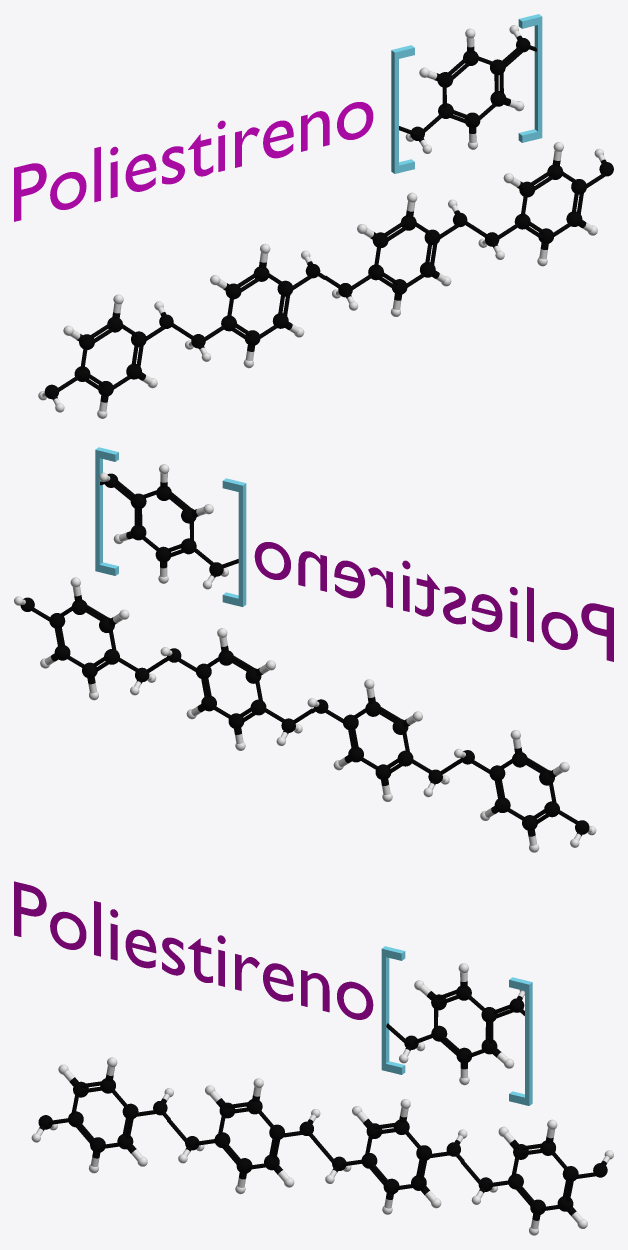
The model's file is poliestireno.glb.
3 views of the same model, one above another, from view 1: azimuth 30°, elevation 25°; view 2: azimuth 150°, elevation 25°; view 3: azimuth 330°, elevation 25° (orthographic).
Visible parts, largest first — view 1: Text.007, Cube.016, Cube.015; view 2: Text.007, Cube.015, Cube.016; view 3: Text.007, Cube.015, Cube.016.
Part boxes in pixels (x1,y1,x2,y2): Text.007: (14, 102, 373, 221); Cube.016: (518, 14, 542, 142); Cube.015: (391, 45, 414, 173); Text.007: (254, 542, 613, 661); Cube.015: (222, 478, 246, 606); Cube.016: (95, 447, 118, 575); Text.007: (14, 881, 373, 1019); Cube.015: (381, 946, 405, 1074); Cube.016: (509, 977, 532, 1105).
Size of the model in its own units: 278 by 133 by 17.44.
